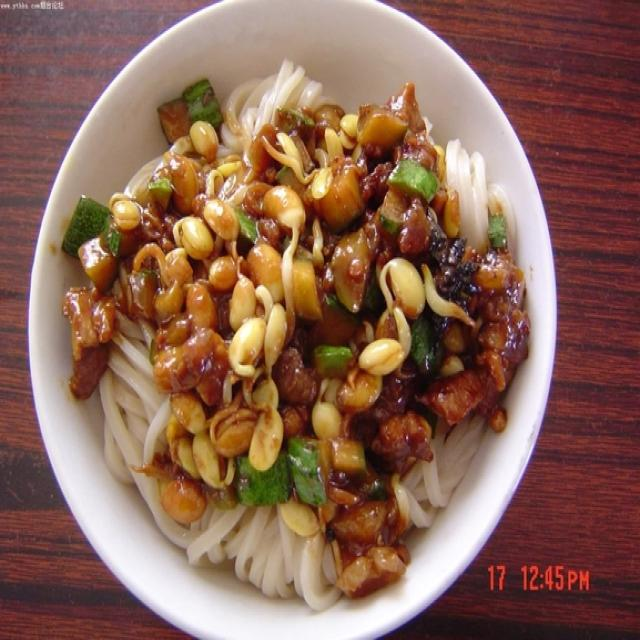面条主食: (41, 24, 566, 628)
